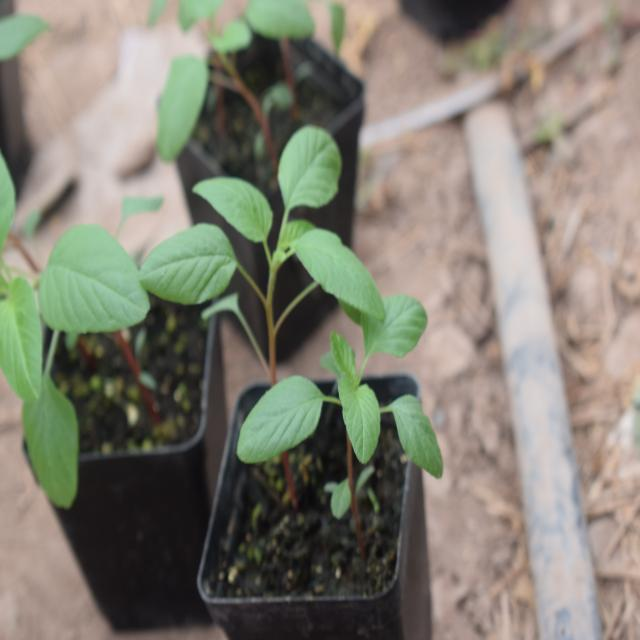pigweed: (166, 148, 452, 507)
